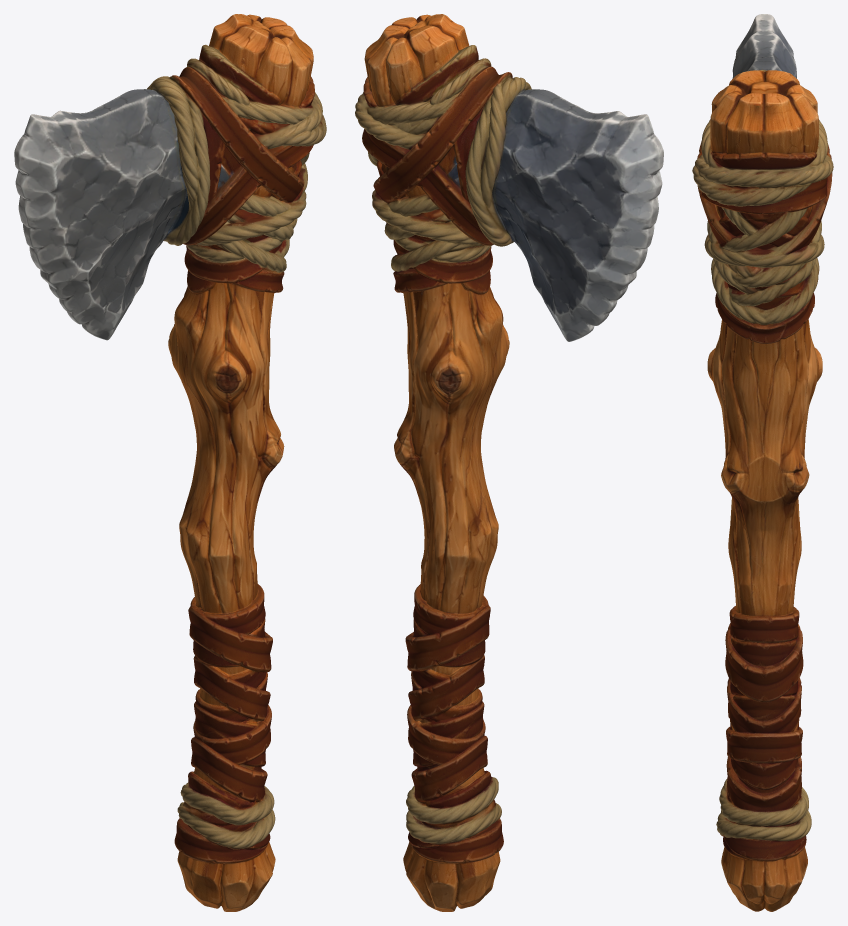
The model's file is Steinaxt.glb.
3 views of the same model, side by side, from view 1: azimuth 30°, elevation 25°; view 2: azimuth 150°, elevation 25°; view 3: azimuth 270°, elevation 25° (orthographic). The views are drawn at different scales.
Size of the model in its own units: 0.6722 by 1.9 by 0.2887.
Materials: 1 (1 with a texture image).
